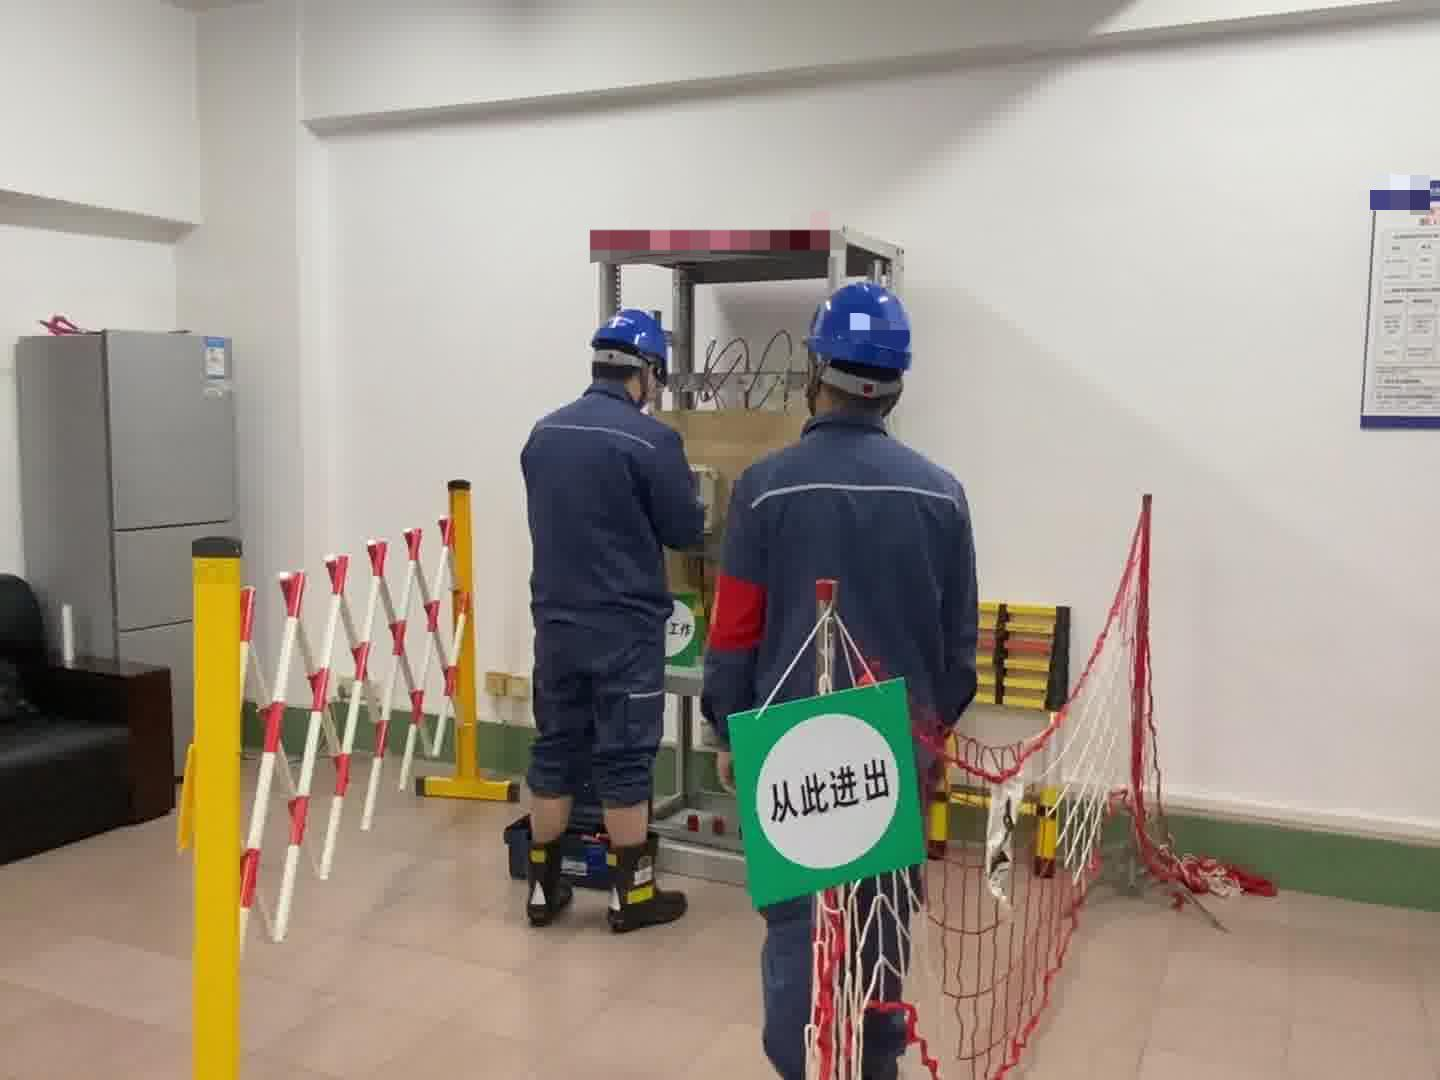halt: (808, 282, 917, 415), (591, 312, 672, 403)
